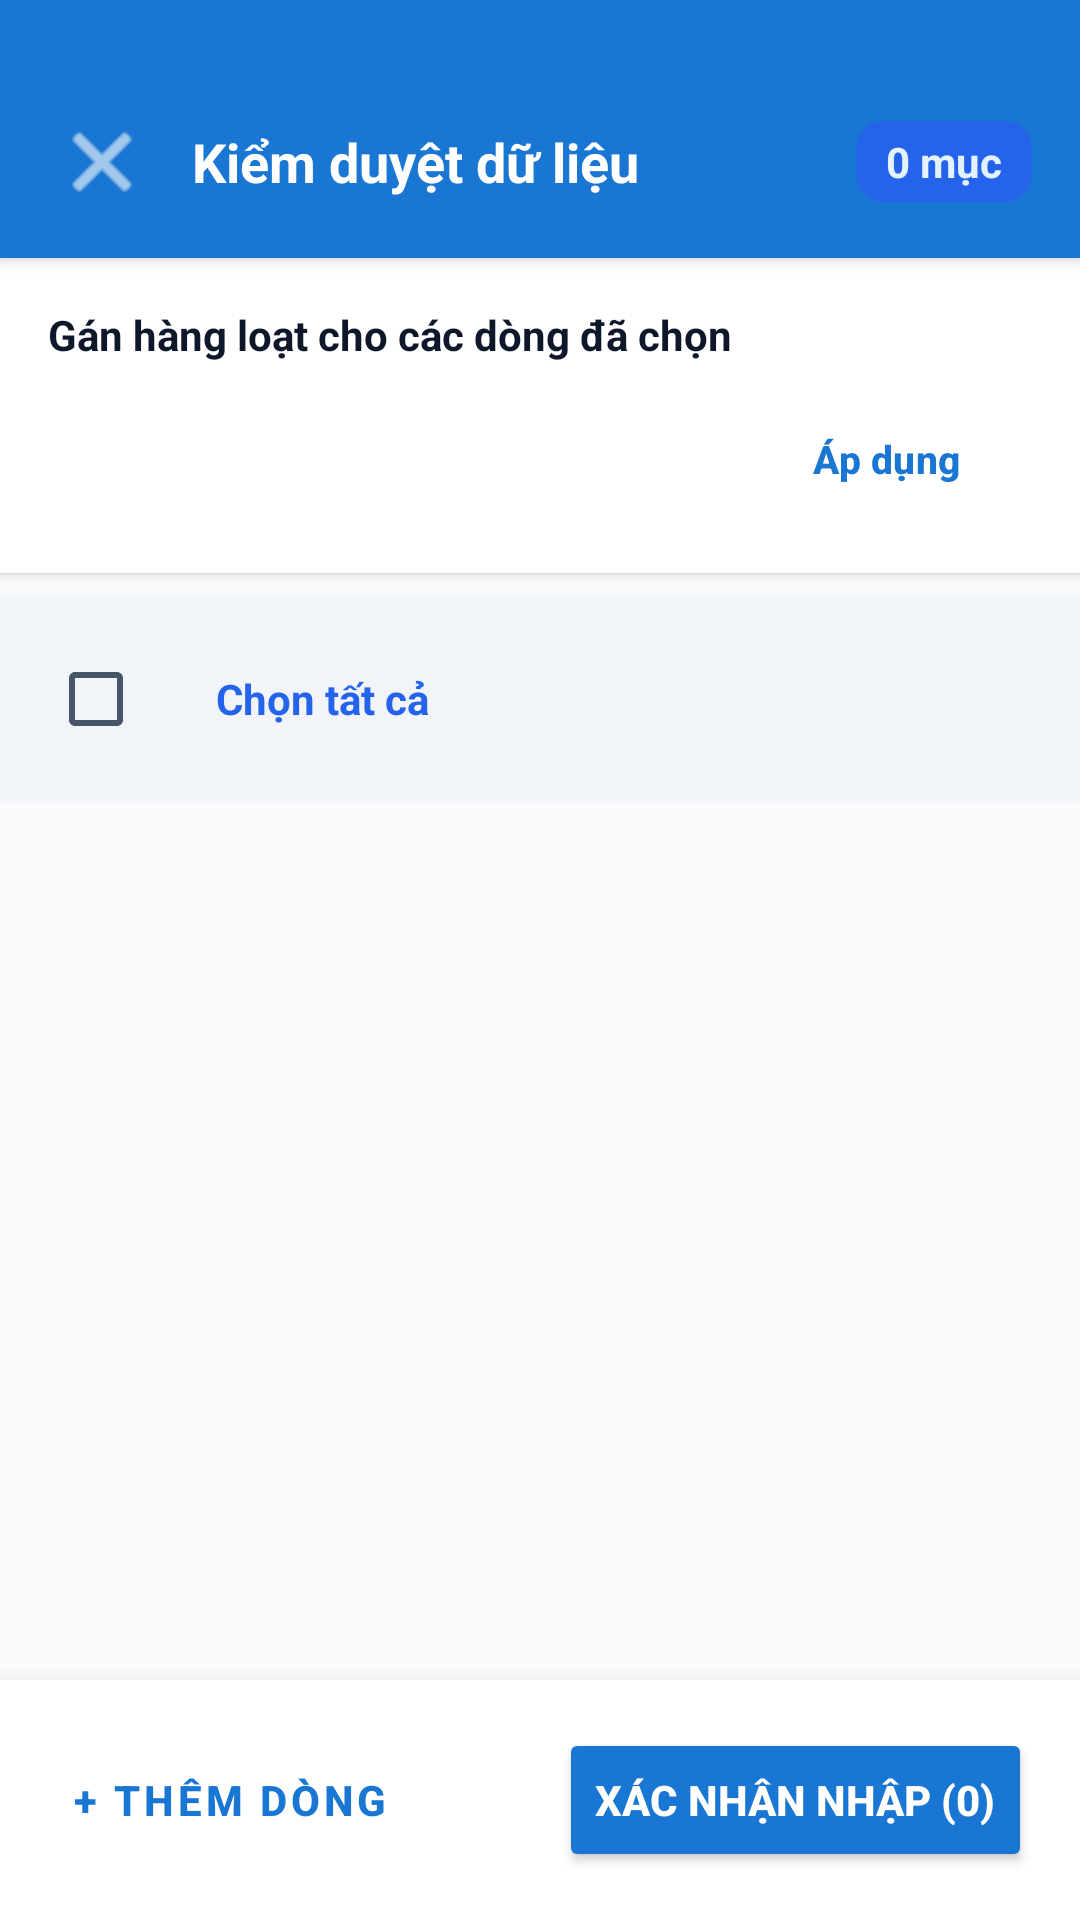

Icons on this 1080x1920 Android screen, each with its box as {"left": x1, "top": y1, "right": x2, "bottom": y2}:
Đóng: {"left": 72, "top": 132, "right": 132, "bottom": 192}
